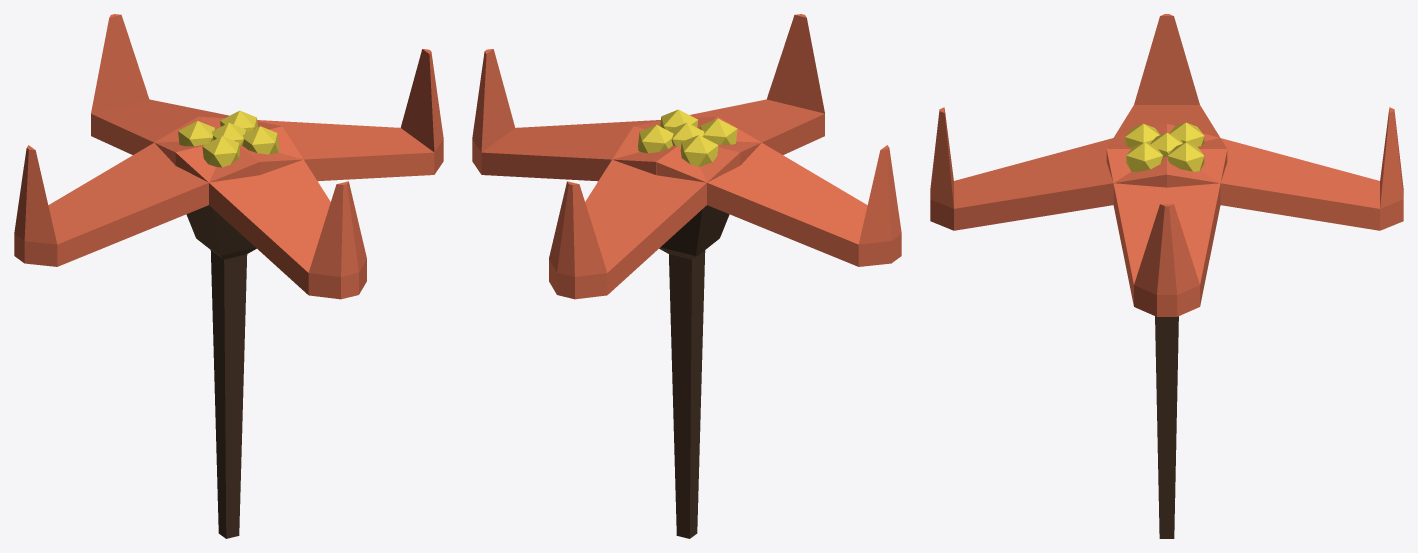
File: item_fireflower.fbx
3 views of the same model, side by side, from view 1: azimuth 30°, elevation 25°; view 2: azimuth 150°, elevation 25°; view 3: azimuth 270°, elevation 25° (orthographic). The views are drawn at different scales.
Parts seen in each view (by area): view 1: item_fireflower; view 2: item_fireflower; view 3: item_fireflower.
Boxes of the visible parts, x1,y1,x2,y2 form: item_fireflower: [14, 14, 443, 538]; item_fireflower: [472, 14, 901, 538]; item_fireflower: [930, 14, 1403, 538].
Size of the model in its own units: 784 by 778 by 784.
